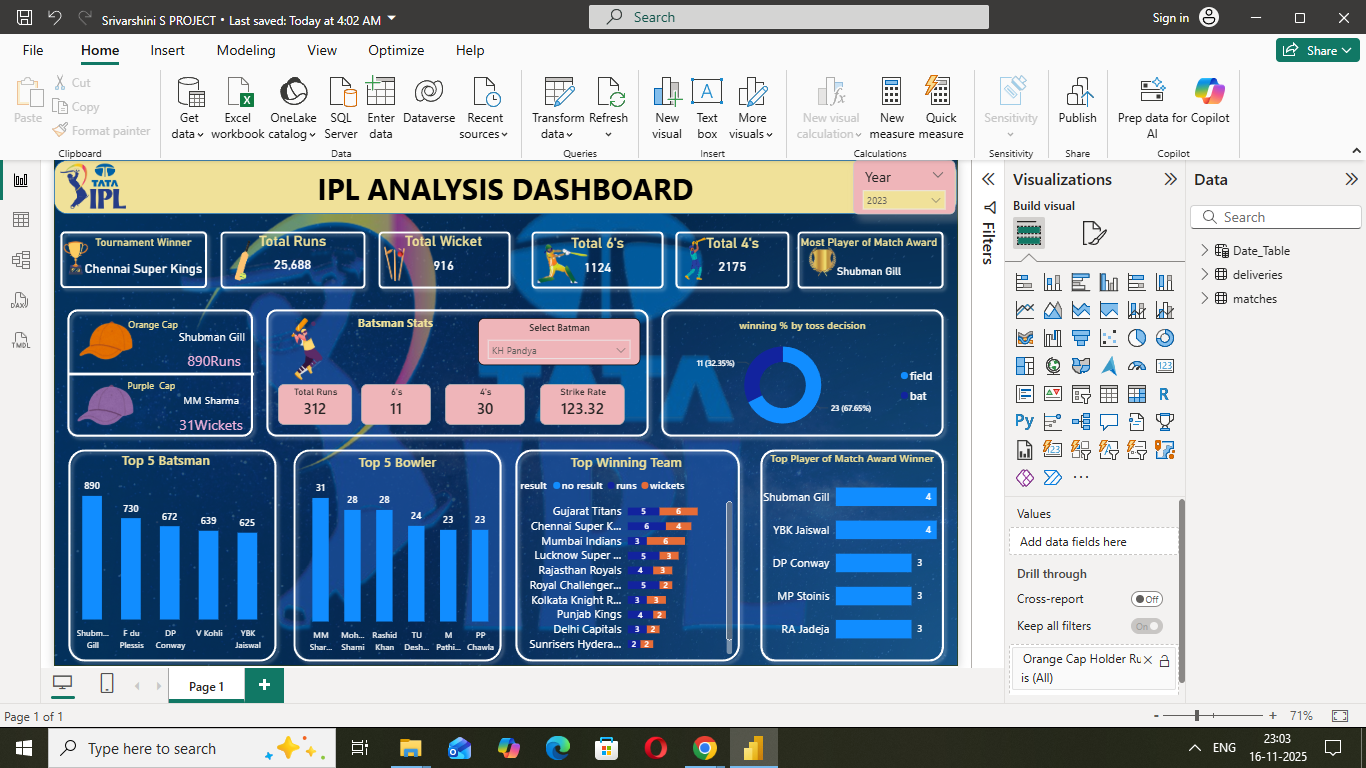

The page's visual inventory and layout, read from the dashboard file:
{"tool":"powerbi","page":{"name":"Page 1","canvas":[1280,720],"ordinal":0},"visuals":[{"type":"shape","box":[851.8,202.7,418.1,198.4],"z":0},{"type":"shape","box":[0,0,1279.8,76.5],"z":1000},{"type":"shape","box":[871.8,92.4,179.7,99.1],"z":2000},{"type":"shape","box":[667.6,92.1,205.5,99.2],"z":3000},{"type":"shape","box":[450.7,92.1,205.5,99.2],"z":4000},{"type":"shape","box":[226.8,92.1,223.9,99.2],"z":5000},{"type":"shape","box":[0,92.8,226.1,98.6],"z":6000},{"type":"shape","box":[1051.5,92.4,225.1,99.1],"z":7000},{"type":"slicer","fields":{"Values":["Date_Table.Year"]},"box":[1132.4,0,144.6,76.5],"z":8000},{"type":"card","title":"Tournament Winner","fields":{"Values":["matches.TournamentsWinner"]},"box":[31.9,105.8,191.3,76.8],"z":9000},{"type":"card","title":"Total Runs","fields":{"Values":["Sum(deliveries.total_runs)"]},"box":[257,104.1,162.9,67.2],"z":10000},{"type":"card","title":"Total Wicket","fields":{"Values":["Sum(deliveries.is_wicket)"]},"box":[470.3,104.1,162.9,68.9],"z":11000},{"type":"card","title":"Total 6''s","fields":{"Values":["CountNonNull(deliveries.batsman_runs)"]},"box":[688.7,105.8,162.9,68.9],"z":12000},{"type":"card","title":"Total 4''s","fields":{"Values":["CountNonNull(deliveries.batsman_runs)"]},"box":[880.2,105.8,162.9,67.2],"z":13000},{"type":"card","title":"Most Player of Match Award","fields":{"Values":["Min(matches.player_of_match)"]},"box":[1056.6,104.1,220.1,84],"z":14000},{"type":"shape","box":[10.1,202.9,281.2,198.6],"z":15000},{"type":"shape","box":[20.3,300,263.8,5.8],"z":16000},{"type":"textbox","box":[87.1,219.4,108.1,30.6],"z":17000},{"type":"textbox","box":[51.6,306.5,174.2,30.6],"z":18000},{"type":"card","fields":{"Values":["Min(deliveries.batter)"]},"box":[156.5,235.5,135.5,33.9],"z":19000},{"type":"card","fields":{"Values":["deliveries.Orange Cap Holder Runs"]},"box":[172.6,269.4,108.1,33.9],"z":20000},{"type":"card","fields":{"Values":["Min(deliveries.bowler)"]},"box":[169.4,324.2,108.1,35.5],"z":21000},{"type":"card","fields":{"Values":["deliveries.Purple Cap Holder Wickets"]},"box":[169.4,359.7,108.1,32.3],"z":22000},{"type":"shape","box":[292,202.7,559.8,198.4],"z":23000},{"type":"slicer","title":"Select Batman","fields":{"Values":["deliveries.bowler"]},"box":[600.9,223.9,229.6,66.6],"z":25000},{"type":"card","title":"Total Runs","fields":{"Values":["Sum(deliveries.batsman_runs)"]},"box":[317.5,311.8,104.9,58.1],"z":26000},{"type":"card","title":"6''s","fields":{"Values":["CountNonNull(deliveries.batsman_runs)"]},"box":[435.1,317.5,99.2,58.1],"z":27000},{"type":"card","title":"4''s","fields":{"Values":["CountNonNull(deliveries.batsman_runs)"]},"box":[554.2,317.5,113.4,58.1],"z":28000},{"type":"card","title":"Strike Rate","fields":{"Values":["deliveries.Batsman Stike Rate"]},"box":[681.7,317.5,120.5,58.1],"z":29000},{"type":"textbox","box":[384.1,214,199.8,43.9],"z":34000},{"type":"donutChart","title":"winning % by toss decision","fields":{"Y":["CountNonNull(matches.winner)"],"Category":["matches.toss_decision"]},"box":[871.7,214,398.3,170.1],"z":36000},{"type":"columnChart","title":"Top 5 Batsman","fields":{"Category":["deliveries.batter"],"Y":["Sum(deliveries.batsman_runs)"]},"box":[0,413,317.4,289.9],"z":37000},{"type":"shape","box":[992.8,401.4,278.3,318.8],"z":38000},{"type":"shape","box":[11.6,401.4,313,318.8],"z":39000},{"type":"columnChart","title":"Top 5 Bowler","fields":{"Category":["deliveries.bowler"],"Y":["Sum(deliveries.is_wicket)"]},"box":[333.3,415.9,307.2,289.9],"z":40000},{"type":"barChart","title":"Top Winning Team","fields":{"Category":["matches.winner"],"Y":["CountNonNull(matches.winner)"],"Series":["matches.result"]},"box":[656.5,415.9,310.1,289.9],"z":41000},{"type":"shape","box":[331.9,401.4,313,318.8],"z":42000},{"type":"shape","box":[644.9,401.4,336.2,318.8],"z":43000},{"type":"barChart","title":"Top Player of Match Award Winner","fields":{"Category":["matches.player_of_match"],"Y":["CountNonNull(matches.player_of_match)"]},"box":[992.8,413,278.3,291.3],"z":44000},{"type":"image","box":[31.9,221.7,87,71],"z":45000},{"type":"image","box":[20.3,311.6,108.7,72.5],"z":46000},{"type":"image","box":[0,97.1,62.3,82.6],"z":47000},{"type":"image","box":[210.1,101.4,114.5,81.2],"z":48000},{"type":"image","box":[450.7,114.5,63.8,68.1],"z":49000},{"type":"image","box":[872.5,97.1,73.9,84.1],"z":50000},{"type":"image","box":[676.8,105.8,85.5,85.5],"z":51000},{"type":"image","box":[300,214.5,110.1,107.2],"z":53000},{"type":"image","box":[1056.5,114.5,68.1,60.9],"z":54000},{"type":"image","box":[0,0,111.6,73.9],"z":55000}]}

Visuals, with their boxes on the page's 1280x720 design canvas (x1, y1, x2, y2). These are canvas units, not pixel positions in the 1366x768 screenshot, which may show the page scaled, cropped or inside an application window:
shape: detection(852, 203, 1270, 401)
shape: detection(0, 0, 1280, 76)
shape: detection(872, 92, 1052, 192)
shape: detection(668, 92, 873, 191)
shape: detection(451, 92, 656, 191)
shape: detection(227, 92, 451, 191)
shape: detection(0, 93, 226, 191)
shape: detection(1052, 92, 1277, 192)
slicer - Date_Table.Year: detection(1132, 0, 1277, 76)
"Tournament Winner" card: detection(32, 106, 223, 183)
"Total Runs" card: detection(257, 104, 420, 171)
"Total Wicket" card: detection(470, 104, 633, 173)
"Total 6''s" card: detection(689, 106, 852, 175)
"Total 4''s" card: detection(880, 106, 1043, 173)
"Most Player of Match Award" card: detection(1057, 104, 1277, 188)
shape: detection(10, 203, 291, 402)
shape: detection(20, 300, 284, 306)
textbox: detection(87, 219, 195, 250)
textbox: detection(52, 306, 226, 337)
card - Min(deliveries.batter): detection(156, 236, 292, 269)
card - deliveries.Orange Cap Holder Runs: detection(173, 269, 281, 303)
card - Min(deliveries.bowler): detection(169, 324, 278, 360)
card - deliveries.Purple Cap Holder Wickets: detection(169, 360, 278, 392)
shape: detection(292, 203, 852, 401)
"Select Batman" slicer: detection(601, 224, 830, 290)
"Total Runs" card: detection(318, 312, 422, 370)
"6''s" card: detection(435, 318, 534, 376)
"4''s" card: detection(554, 318, 668, 376)
"Strike Rate" card: detection(682, 318, 802, 376)
textbox: detection(384, 214, 584, 258)
"winning % by toss decision" donutChart: detection(872, 214, 1270, 384)
"Top 5 Batsman" columnChart: detection(0, 413, 317, 703)
shape: detection(993, 401, 1271, 720)
shape: detection(12, 401, 325, 720)
"Top 5 Bowler" columnChart: detection(333, 416, 640, 706)
"Top Winning Team" barChart: detection(656, 416, 967, 706)
shape: detection(332, 401, 645, 720)
shape: detection(645, 401, 981, 720)
"Top Player of Match Award Winner" barChart: detection(993, 413, 1271, 704)
image: detection(32, 222, 119, 293)
image: detection(20, 312, 129, 384)
image: detection(0, 97, 62, 180)
image: detection(210, 101, 325, 183)
image: detection(451, 114, 514, 183)
image: detection(872, 97, 946, 181)
image: detection(677, 106, 762, 191)
image: detection(300, 214, 410, 322)
image: detection(1056, 114, 1125, 175)
image: detection(0, 0, 112, 74)
